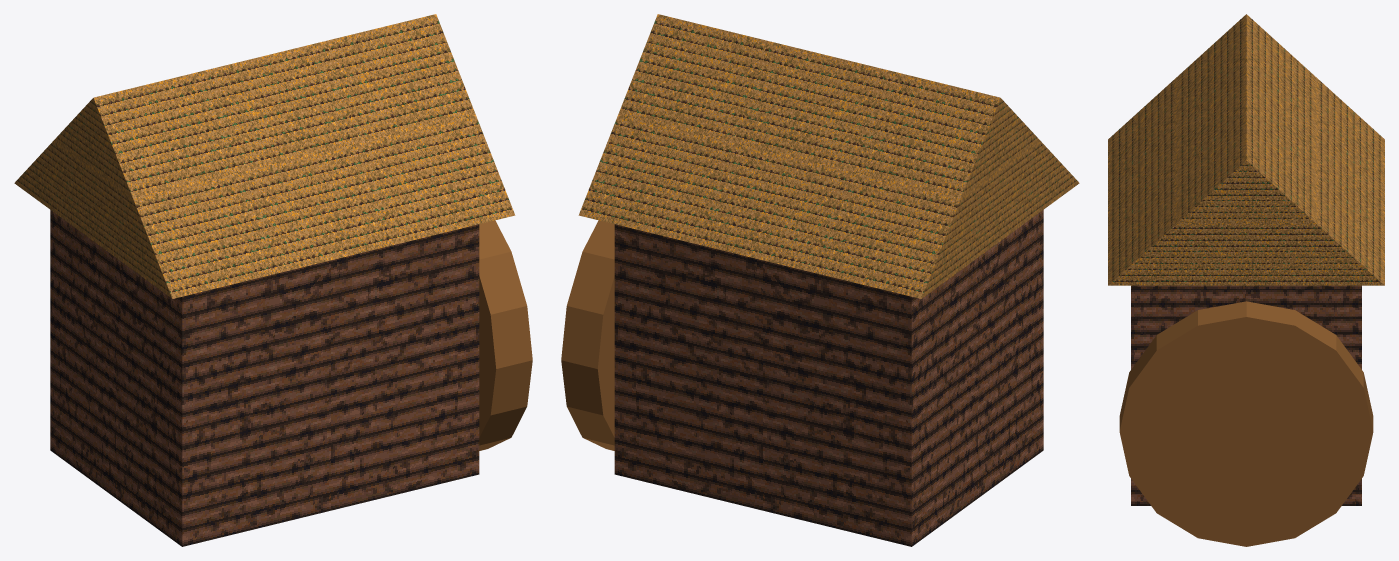
Rendered from molino_shamba.glb.
3 views of the same model, side by side, from view 1: azimuth 30°, elevation 25°; view 2: azimuth 150°, elevation 25°; view 3: azimuth 270°, elevation 25° (orthographic). The views are drawn at different scales.
Parts seen in each view (by area): view 1: Cube, Molino_Techo, Cylinder; view 2: Cube, Molino_Techo, Cylinder; view 3: Molino_Techo, Cylinder, Cube.
Boxes of the visible parts, box(x1,y1,x2,y2) form: Cube: box(50, 210, 479, 546); Molino_Techo: box(14, 14, 515, 298); Cylinder: box(479, 220, 532, 450); Cube: box(614, 210, 1043, 546); Molino_Techo: box(578, 14, 1079, 298); Cylinder: box(561, 220, 614, 450); Molino_Techo: box(1108, 14, 1384, 285); Cylinder: box(1119, 301, 1373, 546); Cube: box(1131, 285, 1361, 505).
Bounding box in the file's own units: 3.21 × 3.6 × 2.4.
Materials: 3 (2 with a texture image).
